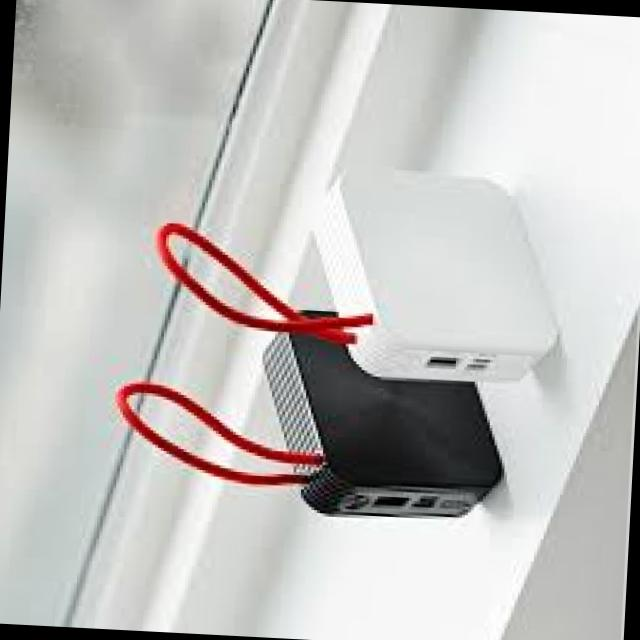portable-charger: (301, 162, 566, 387), (250, 308, 512, 526)
